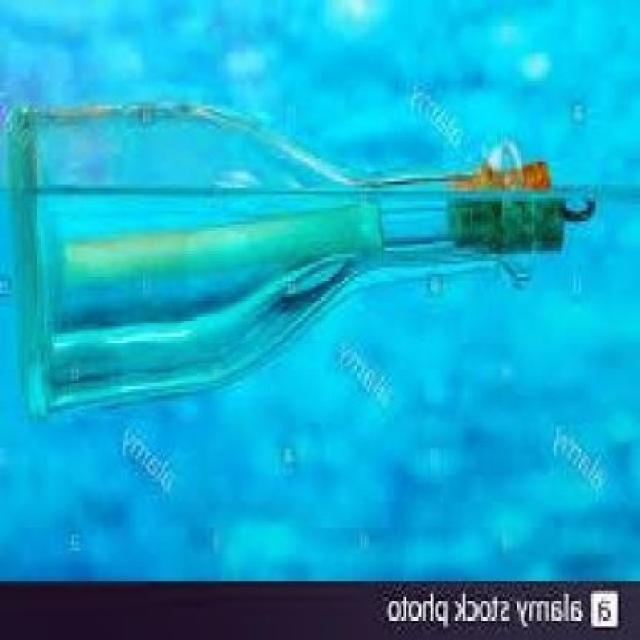gbottle: (12, 105, 566, 422)
